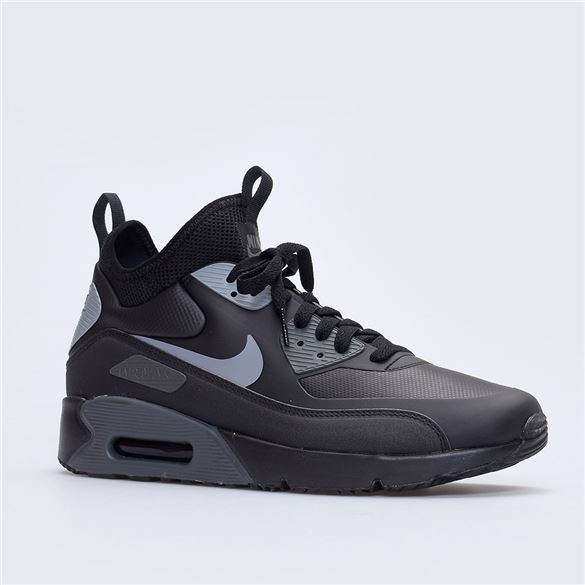nike: (133, 333, 264, 390)
